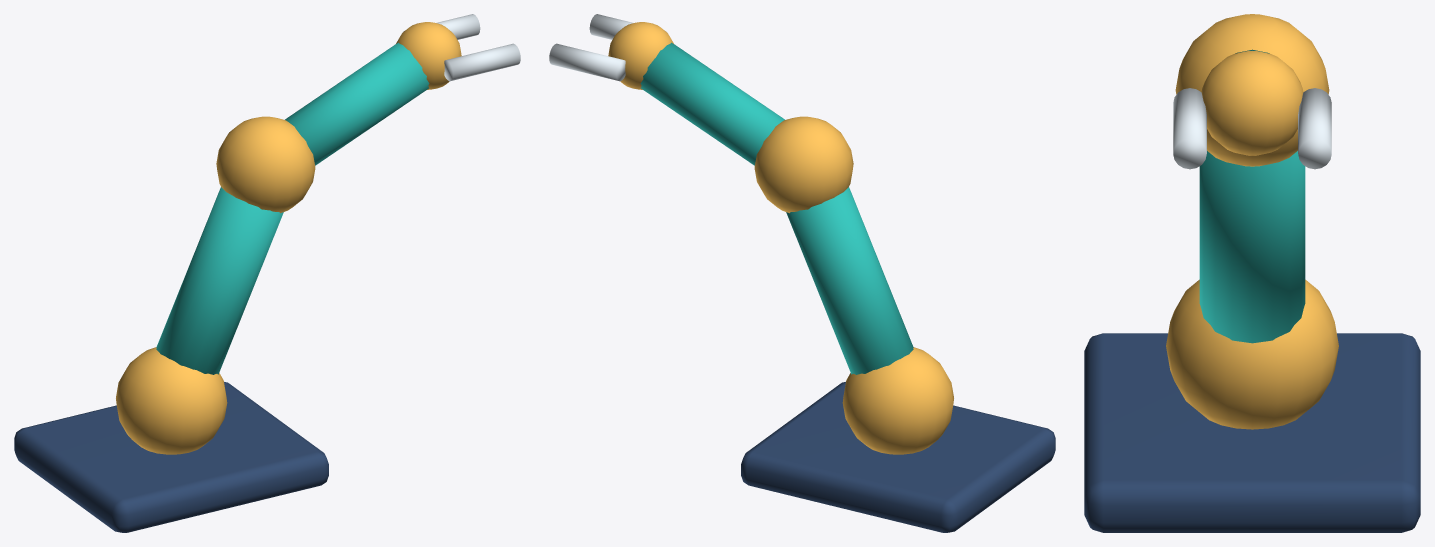
The model's file is robotic-arm-lite.glb.
3 renders of one model, left to right at view 1: azimuth 30°, elevation 25°; view 2: azimuth 150°, elevation 25°; view 3: azimuth 270°, elevation 25°, orthographic. The views are drawn at different scales.
Parts seen in each view (by area): view 1: Base; view 2: Base; view 3: Base.
Part boxes in pixels (box(x1,y1,x2,y2)): Base: box(14, 14, 520, 532); Base: box(549, 14, 1055, 532); Base: box(1084, 14, 1420, 532).
Bounding box in the file's own units: 1.6 × 1.37 × 0.7.
